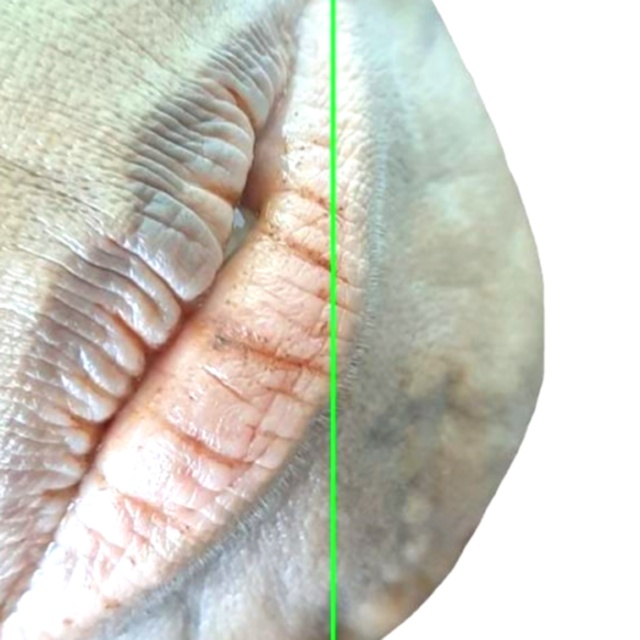Eczema: (334, 0, 639, 639)
